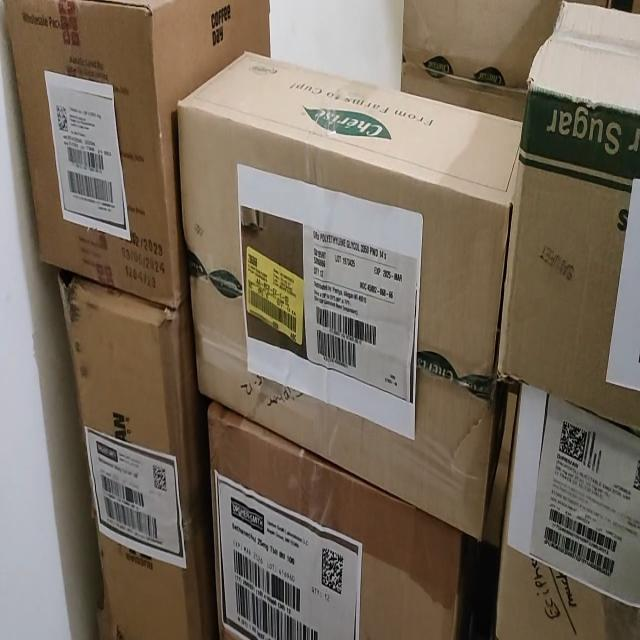BoxFace: (176, 97, 511, 541), (206, 400, 466, 637), (56, 268, 216, 638), (3, 0, 174, 308)
